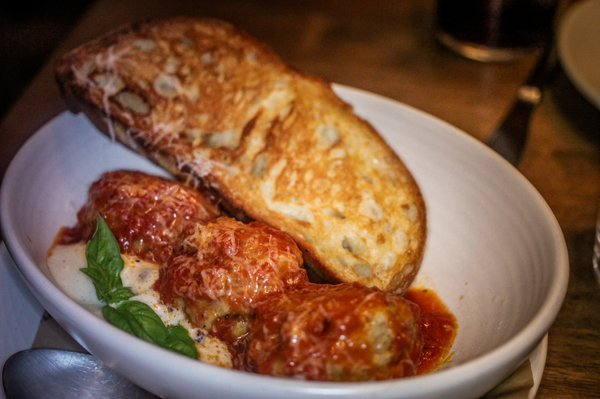sushi: (0, 76, 543, 395), (553, 1, 600, 115)
